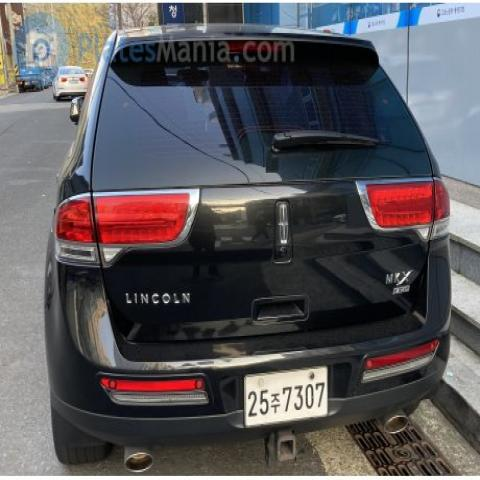LP: (240, 349, 335, 442)
